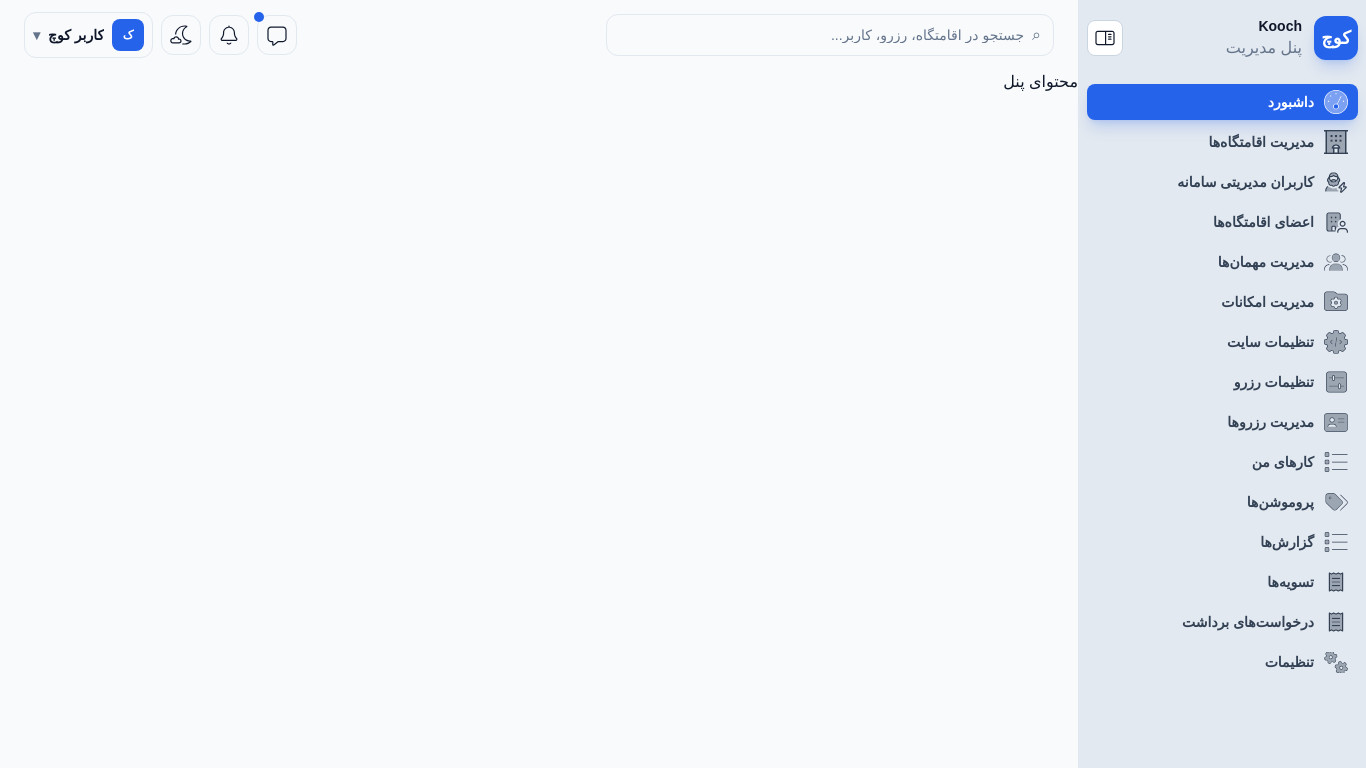
Test: Dashboard notification inbox › shows no badge at zero and renders loading then empty inbox
What coordinates should you click on to do the following:
click the button named "اعلان‌ها"
I would click on:
 (229, 35)
Its box is [209,15,249,55].
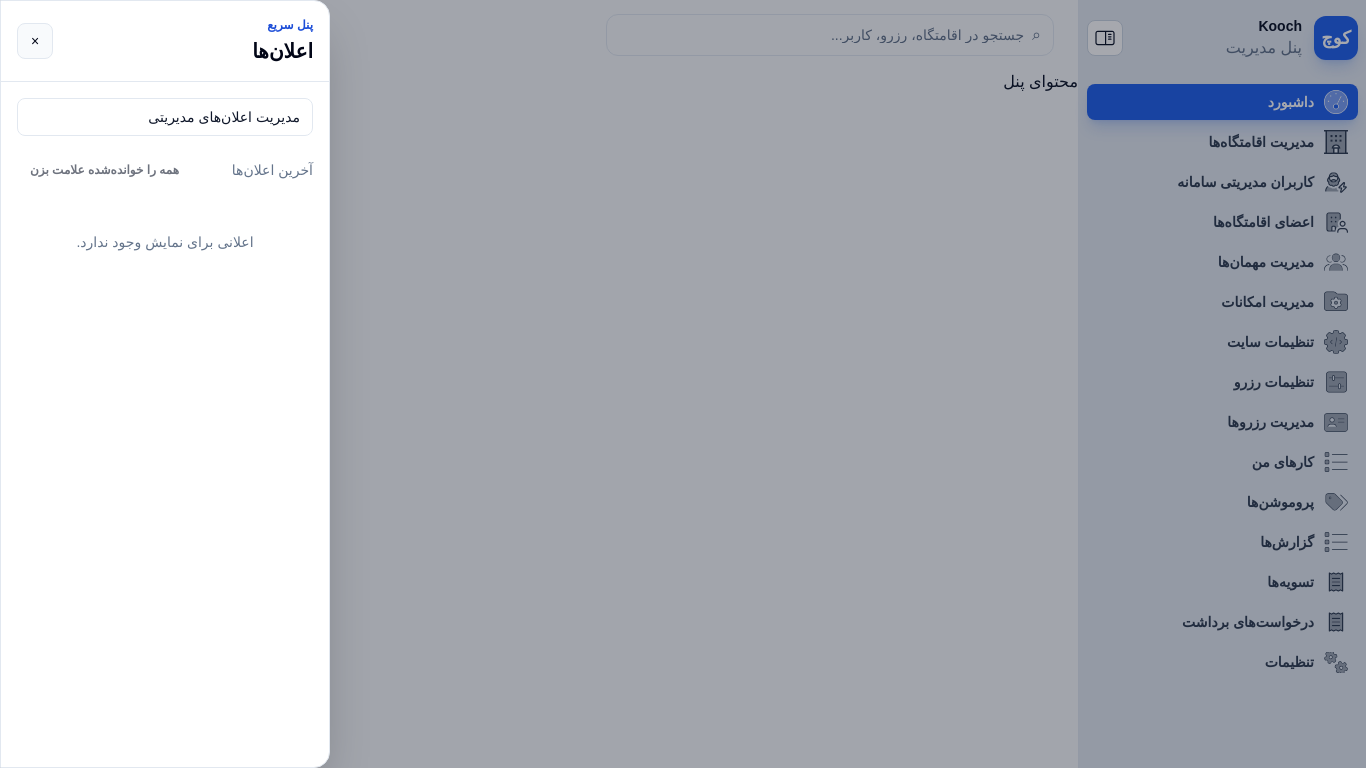
Expected: the text "اعلانی برای نمایش وجود ندارد." is shown, [76,234,254,250]
Expected: the button "همه را خوانده‌شده علامت بزن" is disabled, [17,152,192,188]
